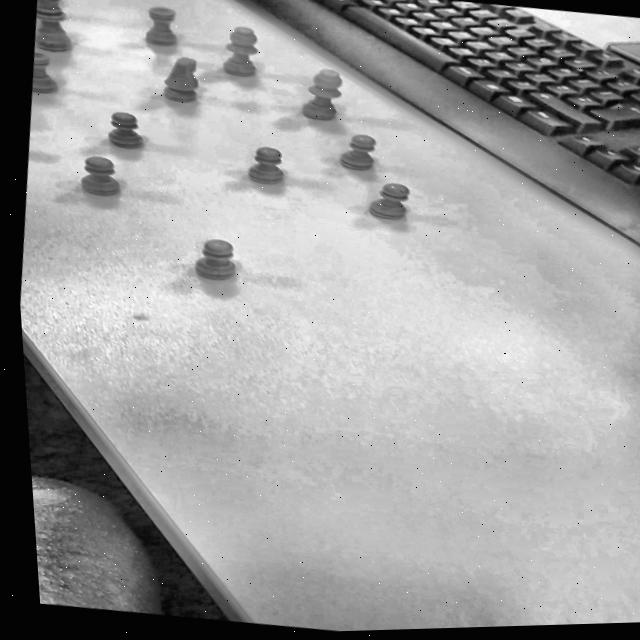white-bishop: (291, 64, 363, 131), (210, 22, 272, 84)
white-king: (34, 0, 77, 28)
white-knight: (156, 53, 216, 111)
white-pawn: (181, 229, 265, 298), (90, 105, 163, 159), (67, 152, 132, 205), (361, 179, 424, 229), (333, 127, 389, 176), (240, 143, 294, 190)
white-queen: (30, 0, 89, 57)
white-rook: (132, 0, 193, 56), (28, 49, 76, 105)
